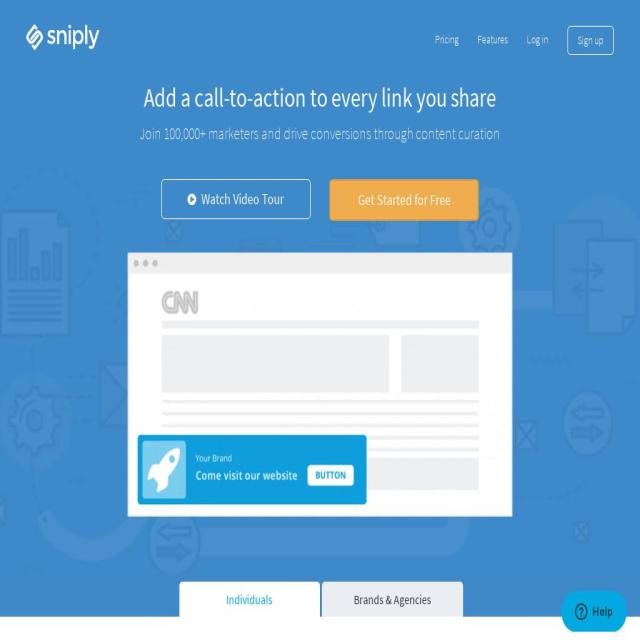button: (329, 179, 479, 221), (160, 179, 310, 219), (178, 582, 320, 616), (322, 582, 463, 616), (468, 26, 518, 53), (568, 26, 614, 55), (426, 26, 468, 53), (518, 26, 558, 53)
heading: (127, 84, 513, 112), (140, 122, 500, 144)
iframe: (558, 590, 628, 632)
image: (127, 252, 513, 518), (26, 21, 100, 53)
text: (202, 190, 284, 208), (478, 26, 508, 53), (578, 27, 604, 54), (435, 26, 459, 53), (527, 26, 548, 53)
